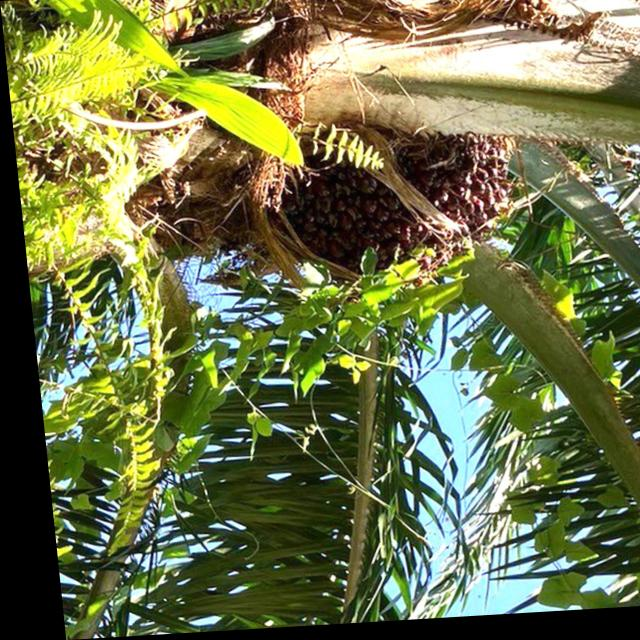ripe: (265, 144, 514, 285)
